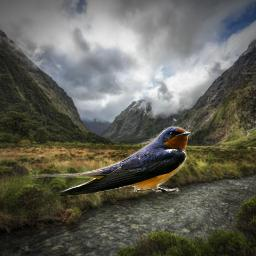Swallow: (25, 125, 191, 196)
